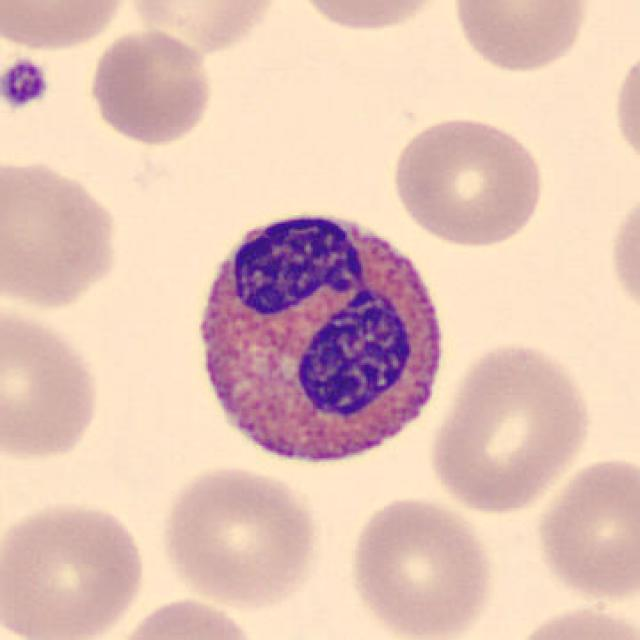Eosinophil: (178, 190, 458, 483)
Platelets: (0, 56, 52, 111)
RBC: (425, 336, 597, 516), (154, 462, 323, 610), (343, 492, 498, 638), (388, 111, 548, 250), (0, 495, 151, 640), (0, 153, 124, 313), (0, 303, 105, 467), (530, 452, 638, 606), (83, 25, 217, 148), (446, 0, 594, 78), (122, 0, 284, 56), (105, 592, 265, 640), (0, 0, 132, 55), (286, 0, 451, 35), (507, 599, 638, 640), (606, 182, 640, 328), (610, 42, 640, 176)
